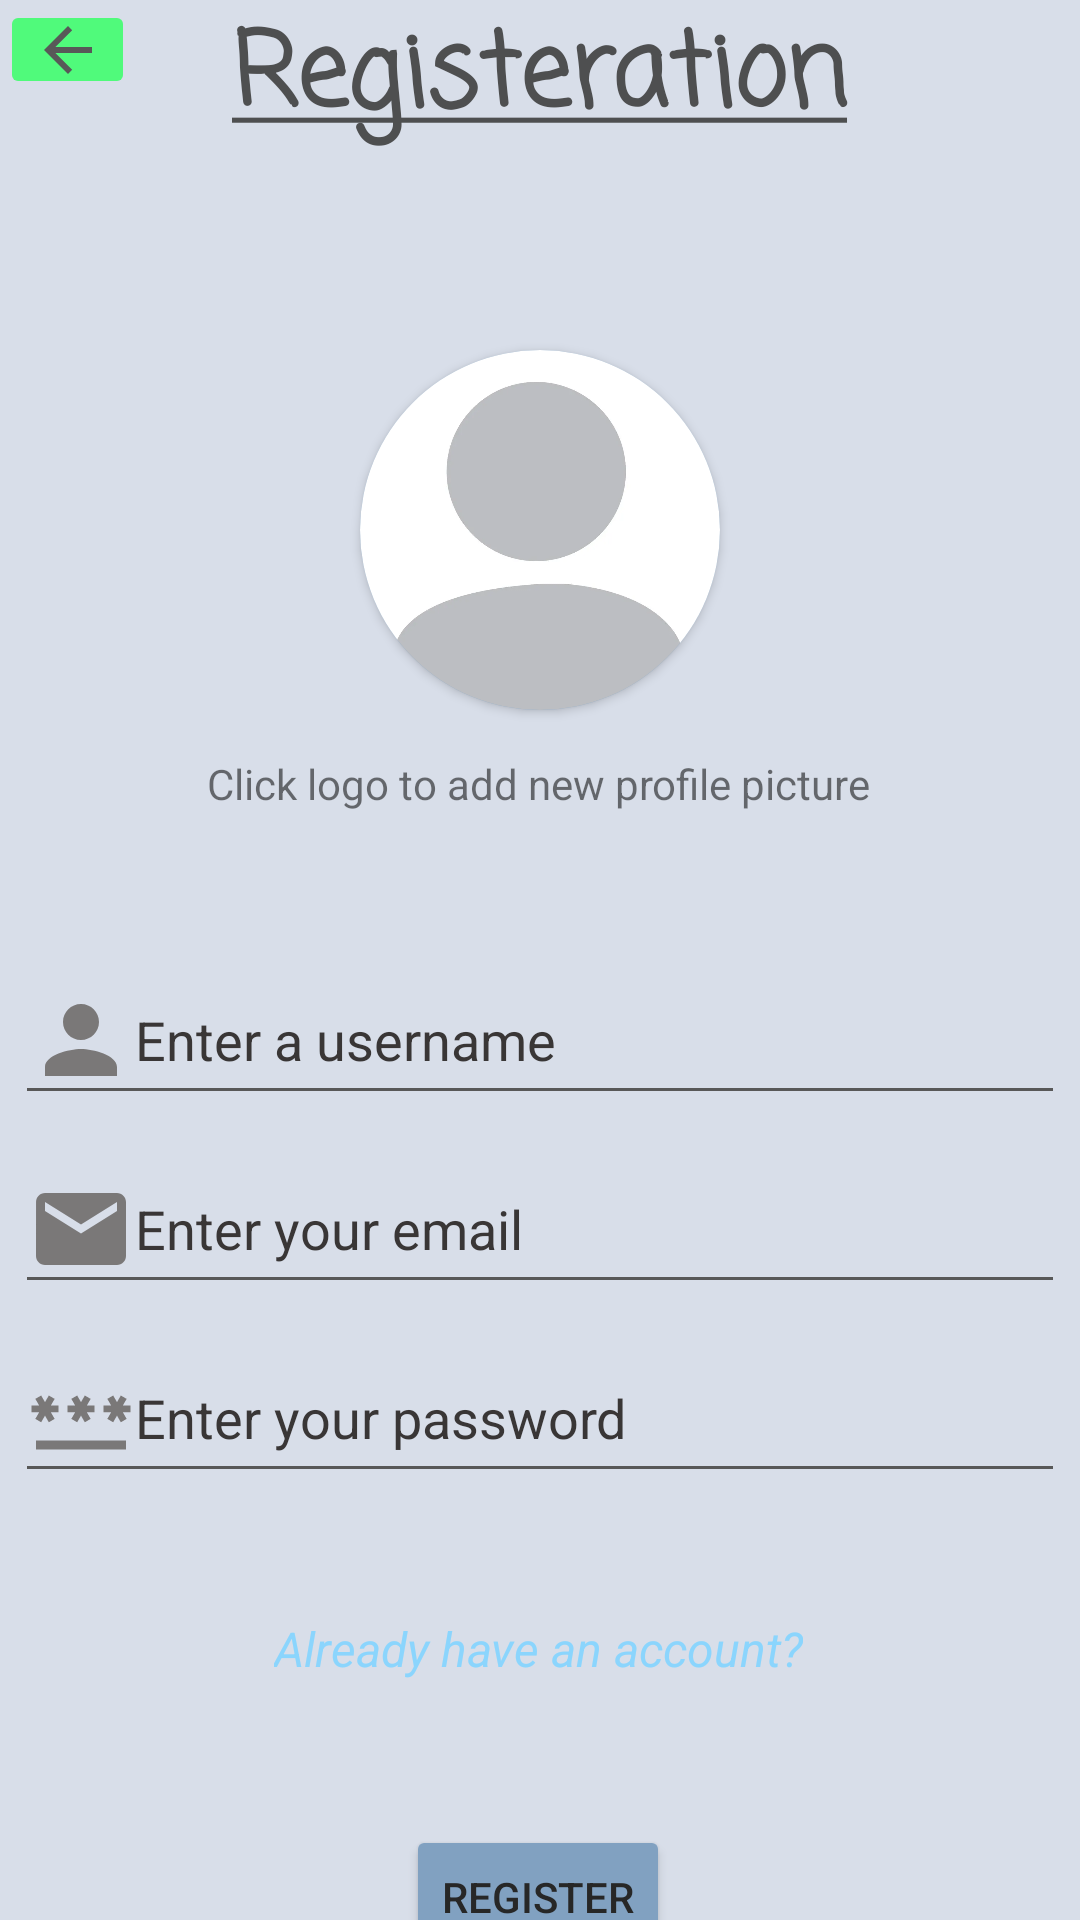

Screen size 1080 × 1920. Icon name, then its center in pixels as (x=x, y=y):
Back button: (x=67, y=49)
